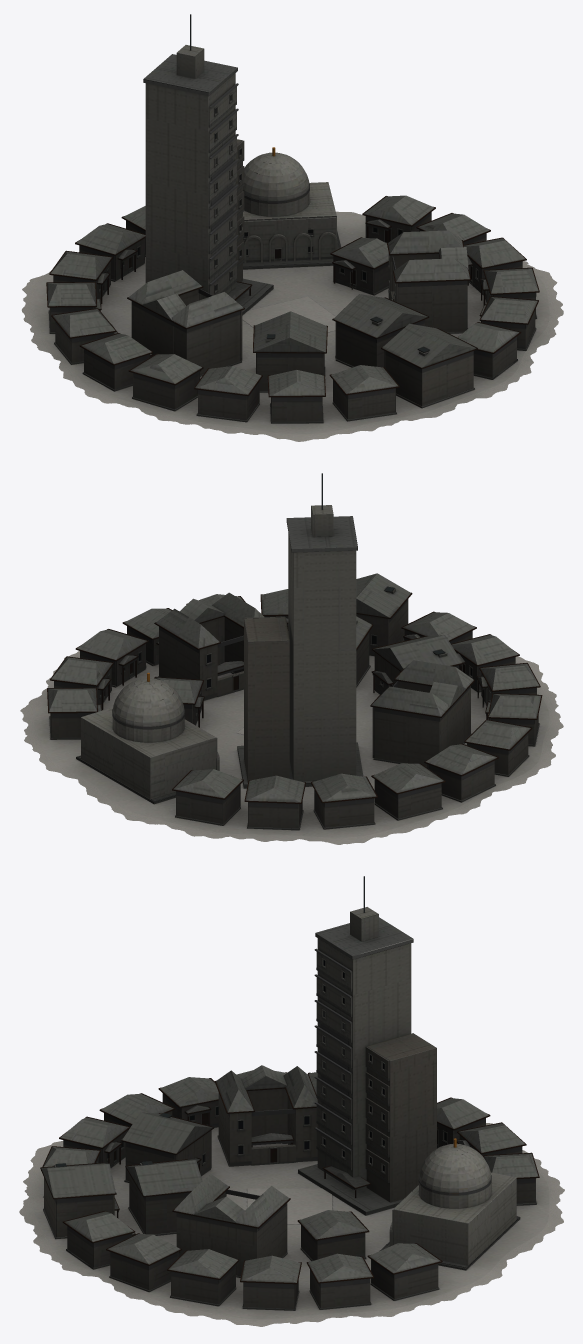
Rendered from modern-town-big-b-westafrica.glb.
3 renders of one model, top to bottom at view 1: azimuth 30°, elevation 25°; view 2: azimuth 150°, elevation 25°; view 3: azimuth 270°, elevation 25°, orthographic.
Visible parts, largest first — view 1: LOD0; view 2: LOD0; view 3: LOD0.
Boxes of the visible parts, box(x1,y1,x2,y2) form: LOD0: box(21, 14, 563, 441); LOD0: box(20, 473, 563, 844); LOD0: box(19, 876, 564, 1326).
Size of what is drawn, in the model's own units: 8.01 by 4.7 by 7.88.
Materials: 3 (3 with a texture image).
